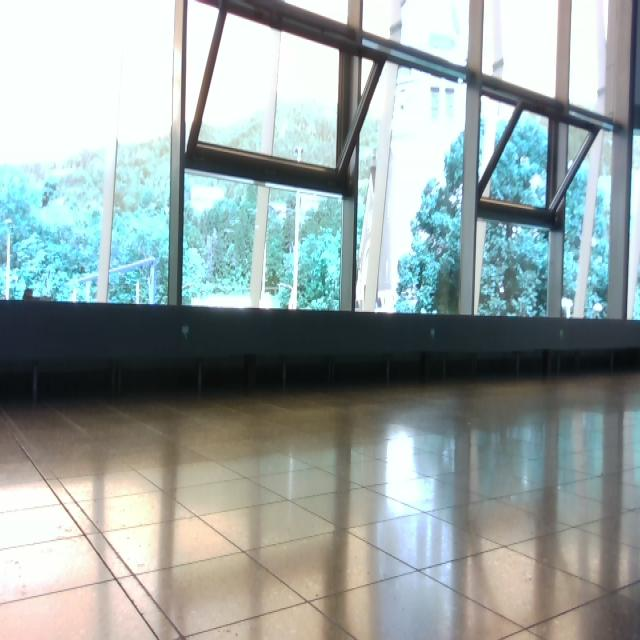light bulb: (190, 183, 225, 215), (561, 297, 573, 309), (593, 304, 603, 313)
tiled floor: (2, 372, 639, 638)
window: (1, 1, 640, 322)
